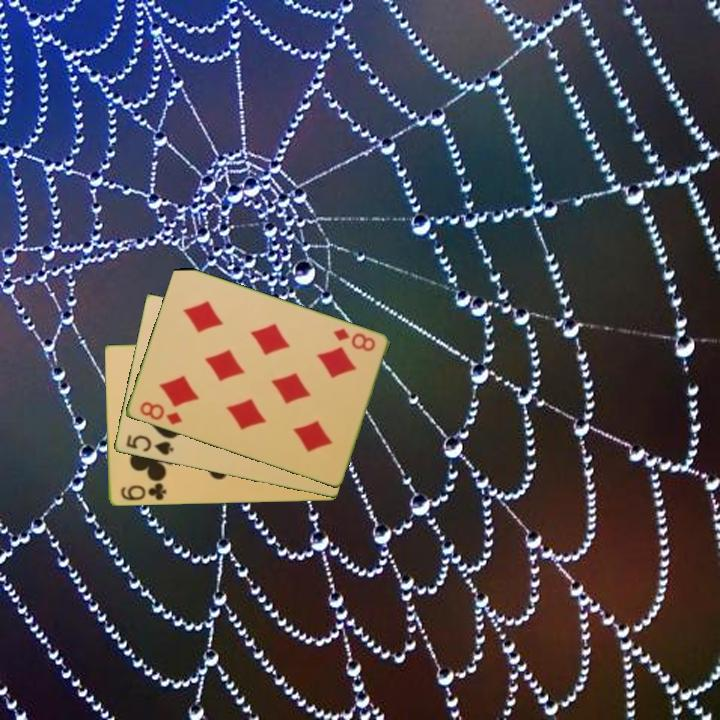5s: (122, 431, 176, 458)
6c: (117, 479, 169, 504)
8d: (136, 398, 185, 428), (329, 325, 378, 355)
